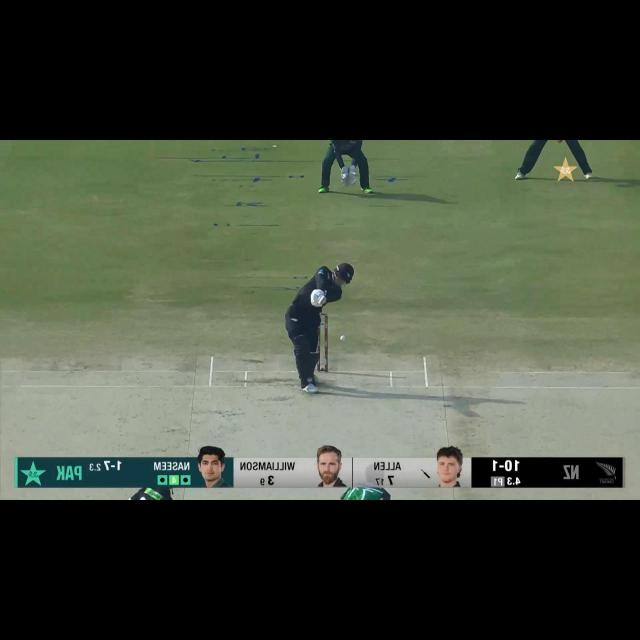toe: (317, 296, 326, 305)
